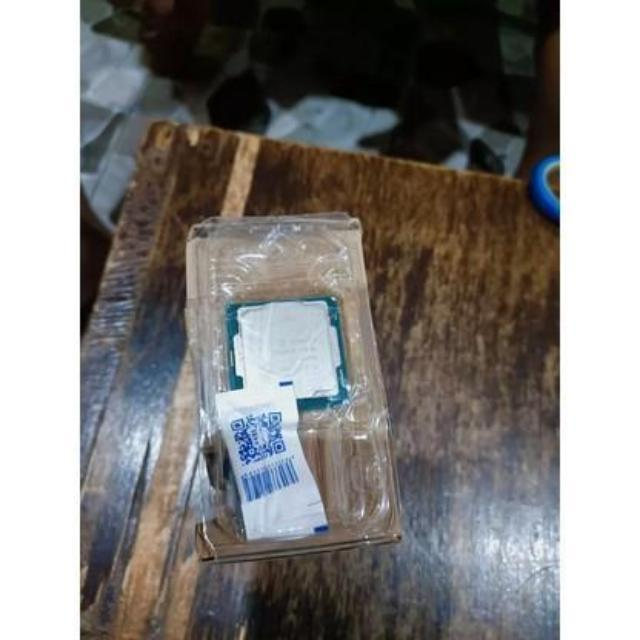CPU: (230, 298, 344, 400)
